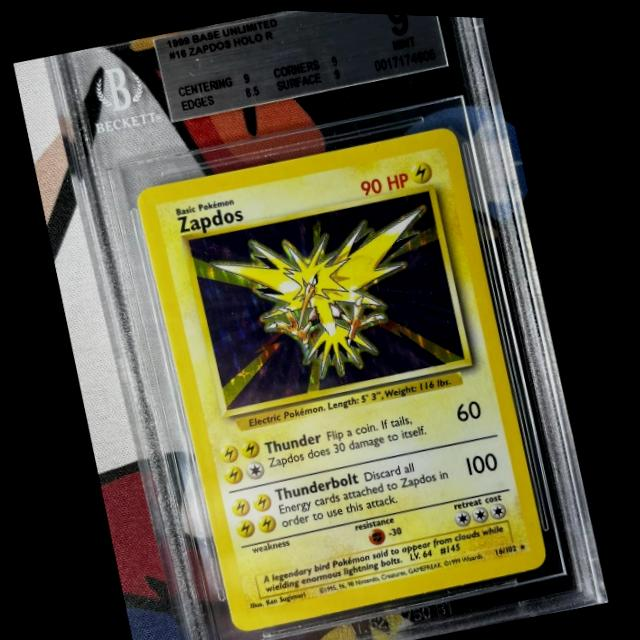bgs_label: (153, 8, 449, 120)
bgs_slab: (41, 8, 612, 640)
card: (136, 121, 554, 632)
